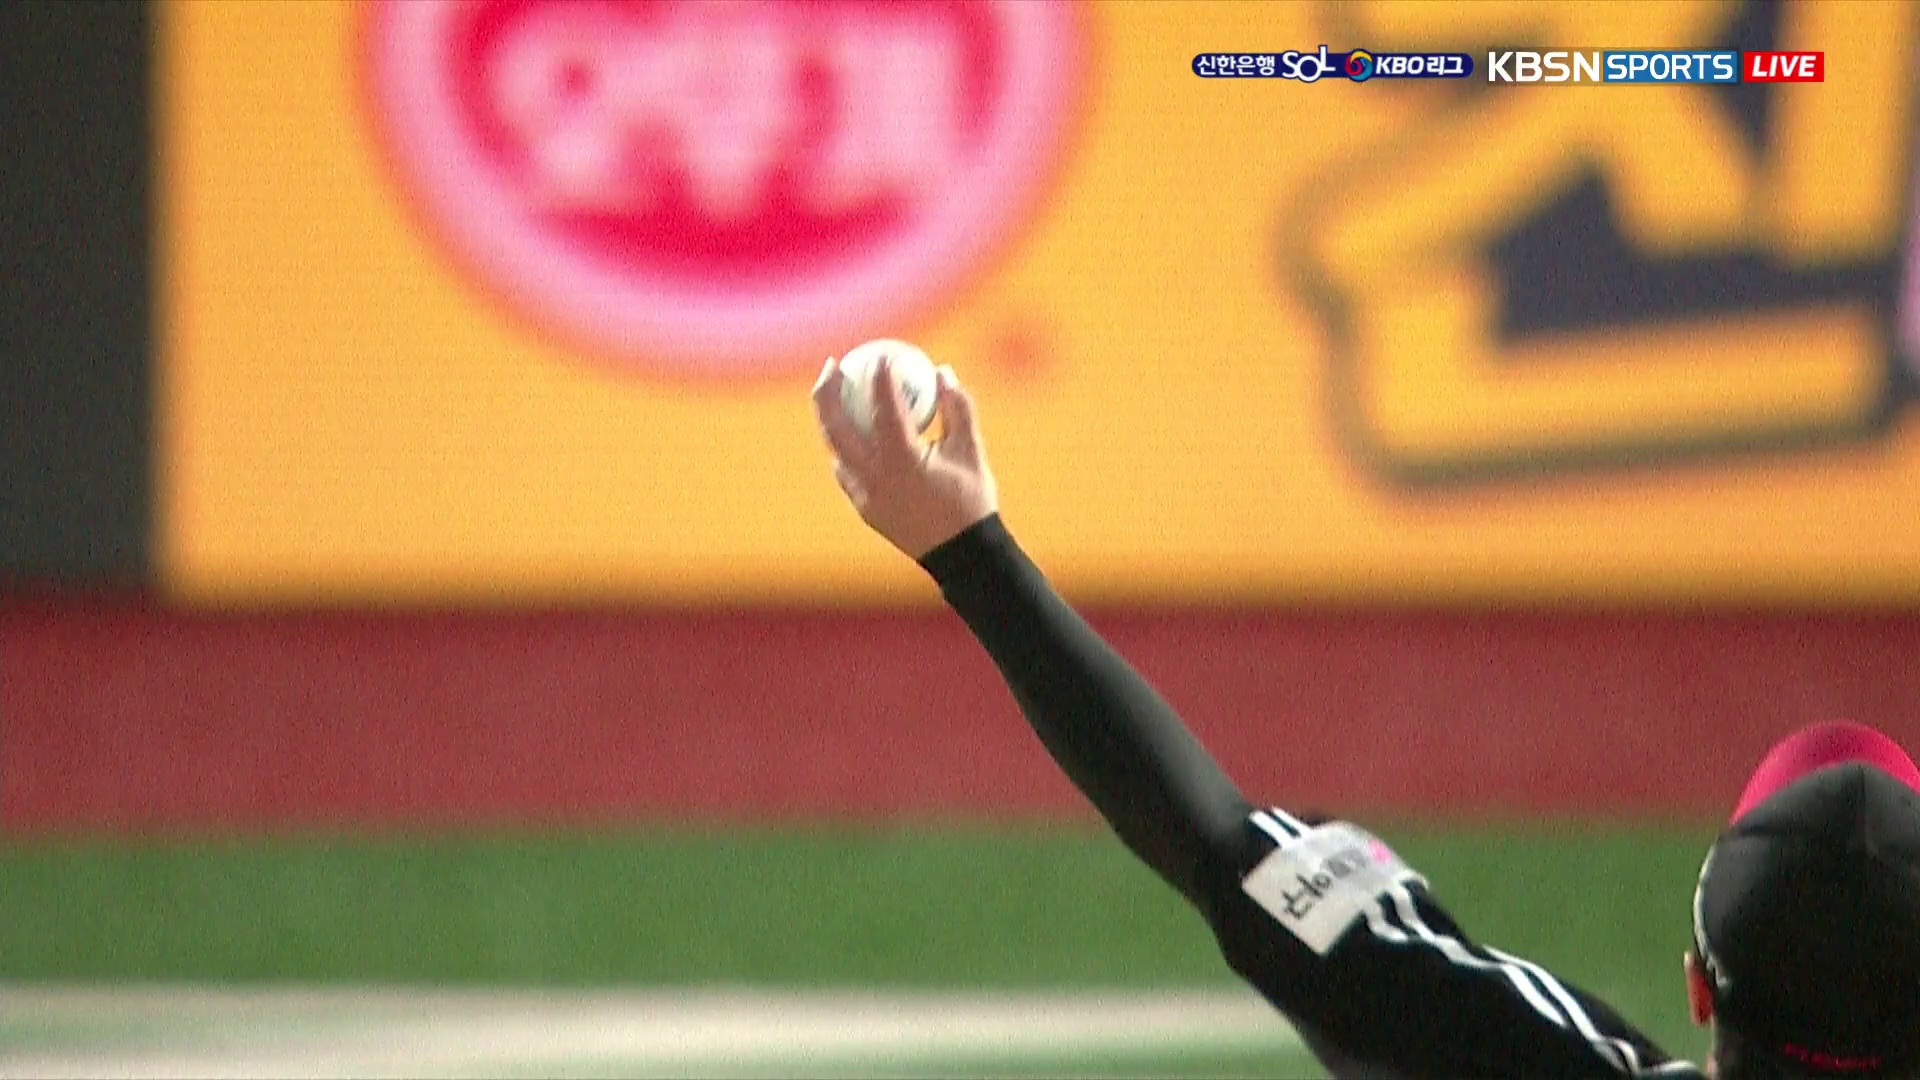zoomin_hand: (808, 334, 1312, 955)
